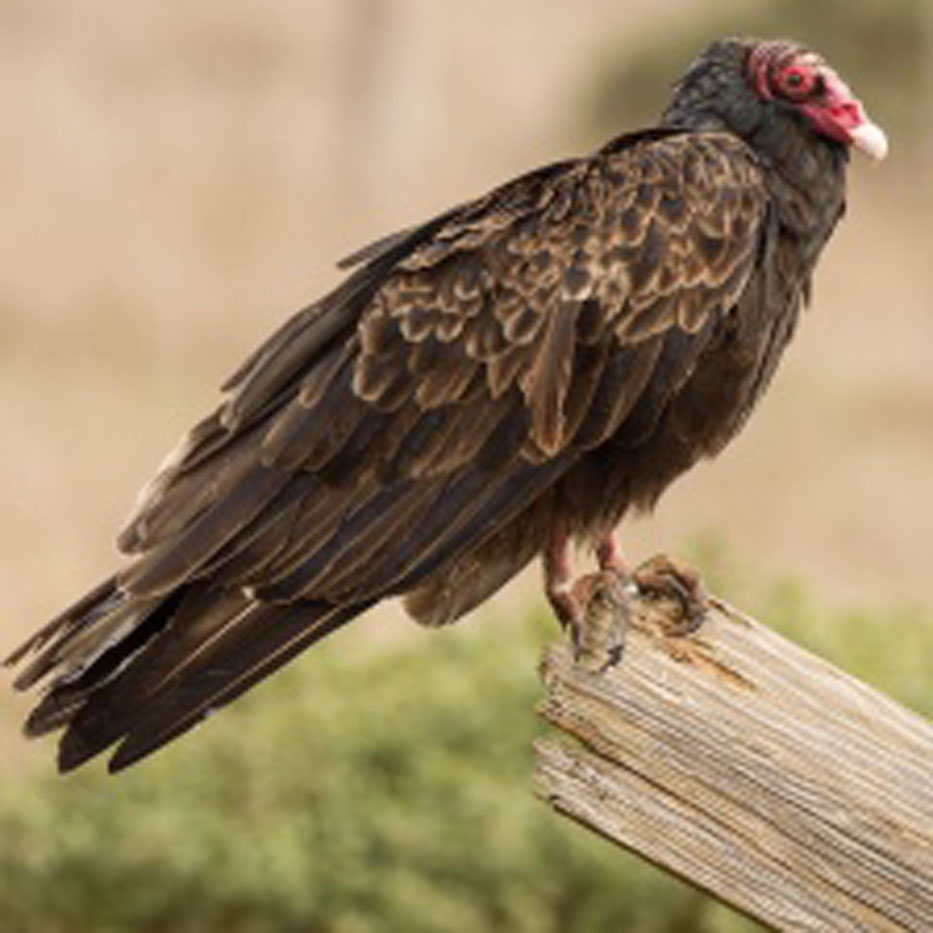Pengoyak Daging: (841, 120, 898, 173)
